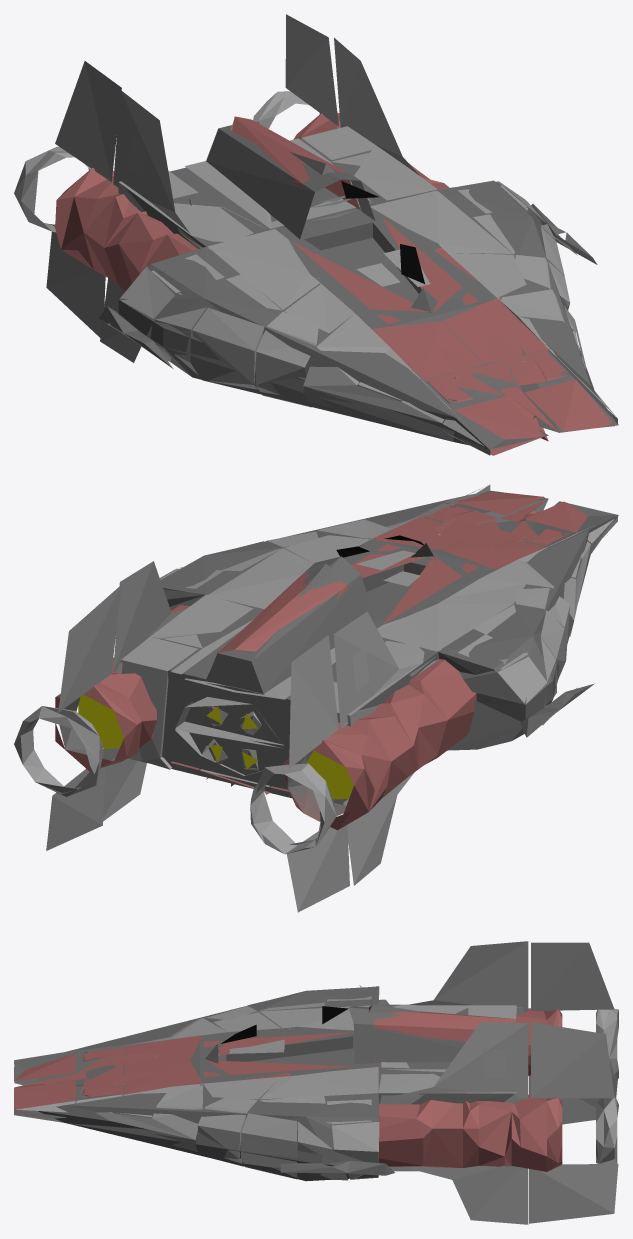
Rendered from awing.glb.
The picture shows the model from 3 angles, top to bottom: view 1: azimuth 30°, elevation 25°; view 2: azimuth 150°, elevation 25°; view 3: azimuth 270°, elevation 25°; orthographic projection. The views are drawn at different scales.
Visible parts, largest first — view 1: awing; view 2: awing; view 3: awing.
Part boxes in pixels (x1,y1,x2,y2): awing: (14, 14, 618, 455); awing: (14, 484, 618, 912); awing: (14, 941, 618, 1224).
Bounding box in the file's own units: 6.42 × 3.47 × 9.79.
